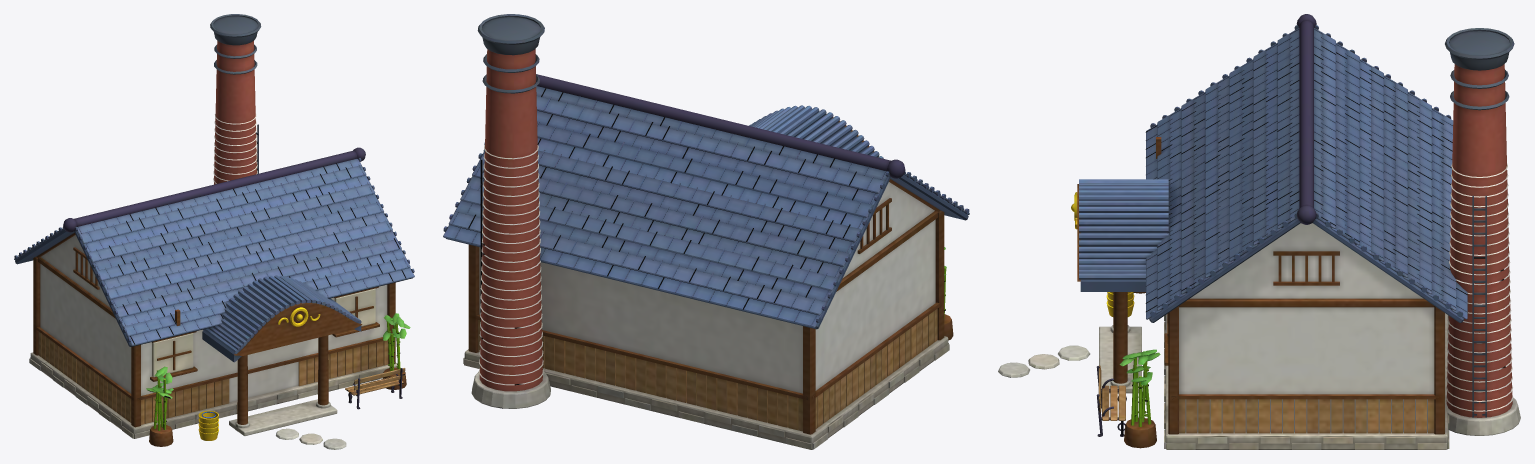
The model's file is sento.glb.
3 views of the same model, side by side, from view 1: azimuth 30°, elevation 25°; view 2: azimuth 150°, elevation 25°; view 3: azimuth 270°, elevation 25° (orthographic). The views are drawn at different scales.
Parts seen in each view (by area): view 1: box; view 2: box; view 3: box.
Boxes of the visible parts, x1=… form: box: x1=14, y1=14, x2=414, y2=449; box: x1=443, y1=14, x2=969, y2=449; box: x1=998, y1=14, x2=1520, y2=449.
Bounding box in the file's own units: 14.17 × 12.52 × 15.73.
1 material, 1 textured.
